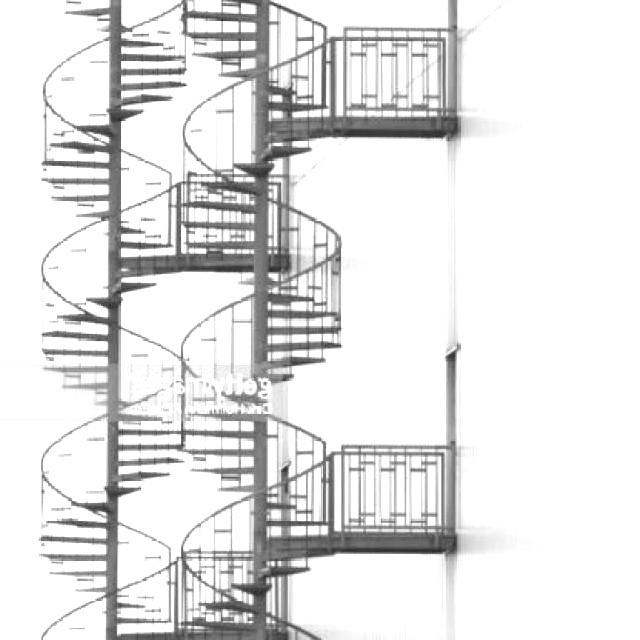stair: (12, 10, 464, 267), (30, 414, 175, 636), (188, 418, 318, 640), (221, 284, 342, 386), (40, 300, 136, 394)
